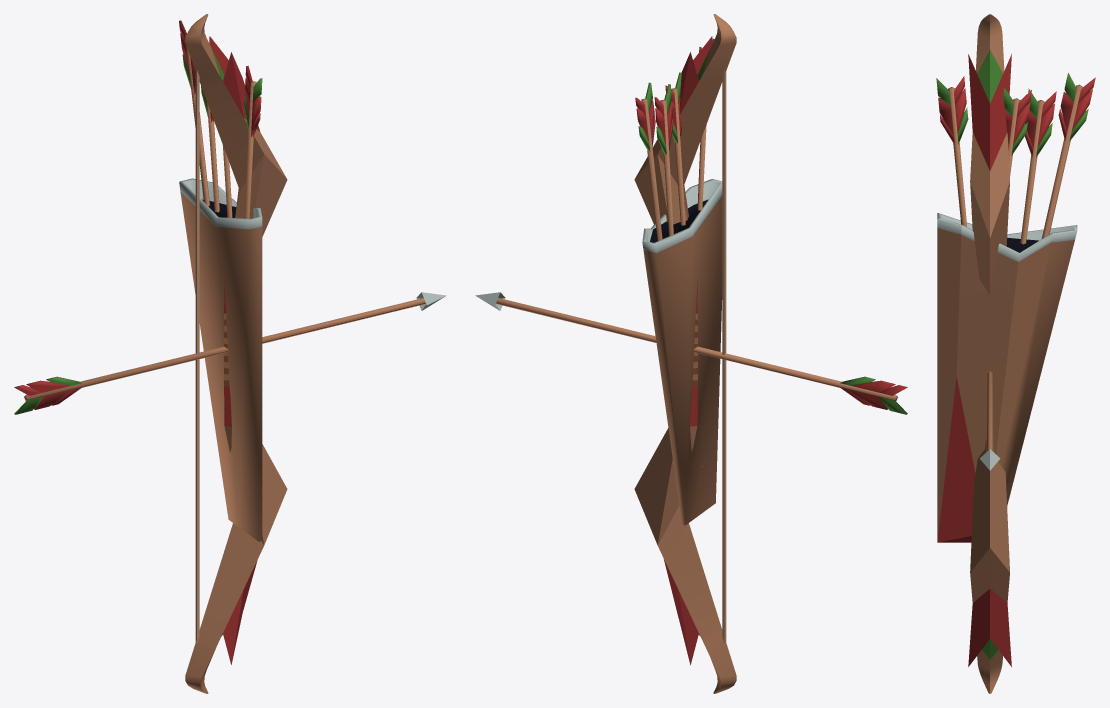
The model's file is Bow_Quiver_Arrow.fbx.
The picture shows the model from 3 angles, left to right: view 1: azimuth 30°, elevation 25°; view 2: azimuth 150°, elevation 25°; view 3: azimuth 270°, elevation 25°; orthographic projection.
Visible parts, largest first — view 1: Quiver, Bow, Arrow; view 2: Quiver, Bow, Arrow; view 3: Quiver, Bow, Arrow.
Boxes of the visible parts, x1,y1,x2,y2 form: Quiver: (179,20,262,541); Bow: (185,14,287,693); Arrow: (14,292,446,414); Quiver: (635,38,722,525); Bow: (634,14,736,693); Arrow: (475,292,907,414); Quiver: (936,73,1095,542); Bow: (968,14,1011,693); Arrow: (979,371,1000,470).
Bounding box in the file's own units: 86.76 × 130 × 27.67.
